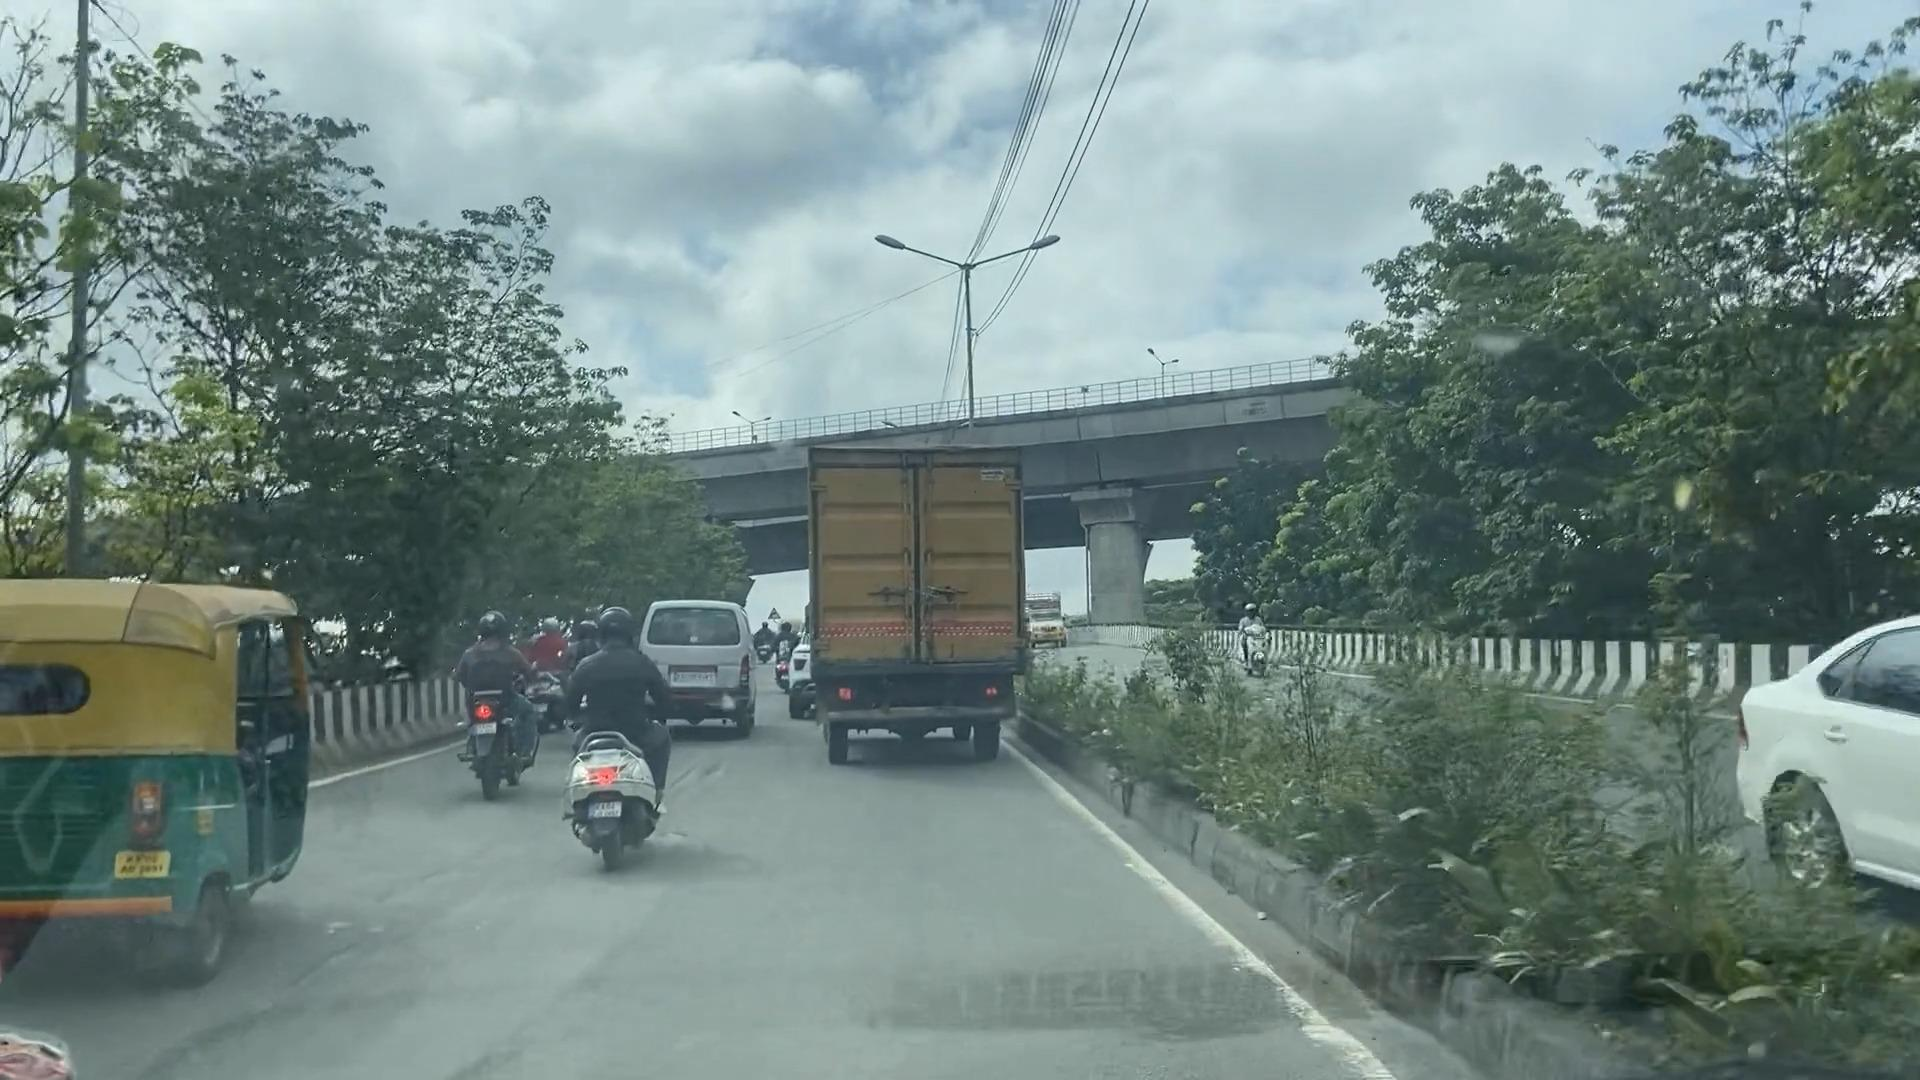HMV: (794, 454, 1035, 760)
LMV: (0, 596, 307, 978), (560, 620, 673, 856), (436, 607, 526, 790)
